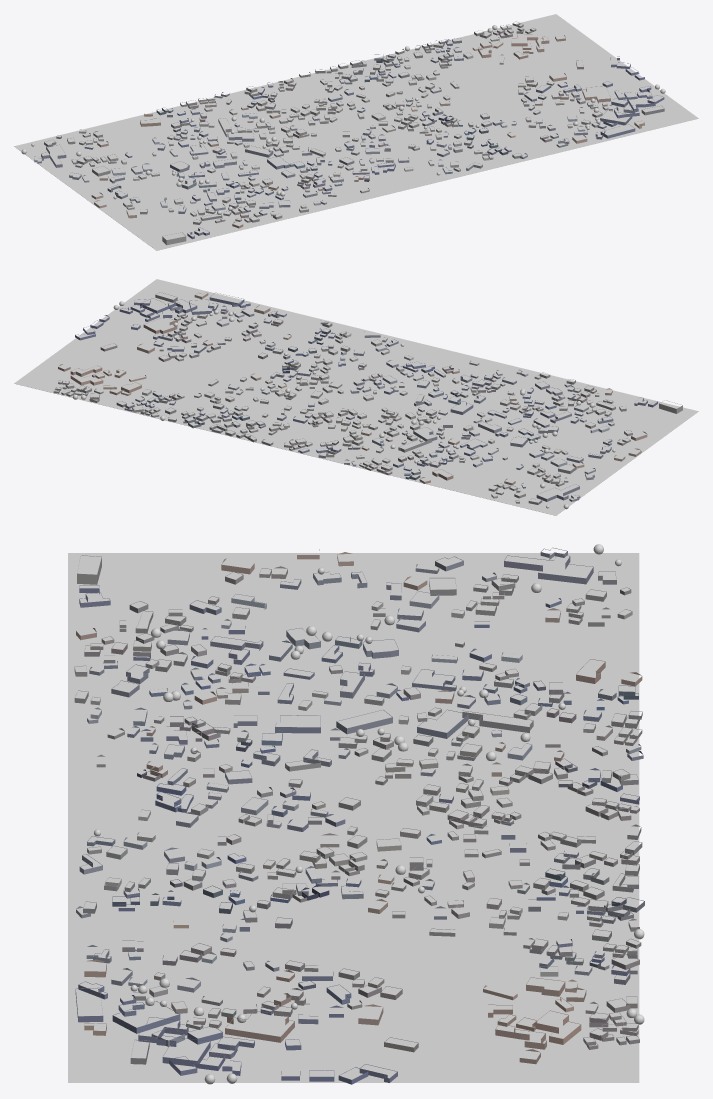
Rendered from scene_8a2acaad-3fab-44d5-9220-e0d28fef39cc.glb.
The picture shows the model from 3 angles, top to bottom: view 1: azimuth 30°, elevation 25°; view 2: azimuth 150°, elevation 25°; view 3: azimuth 270°, elevation 25°; orthographic projection. The views are drawn at different scales.
Visible parts, largest first — view 1: Ground_Base; view 2: Ground_Base; view 3: Ground_Base.
Boxes of the visible parts, <box> form: Ground_Base: <box>14,14,698,250</box>; Ground_Base: <box>14,279,698,515</box>; Ground_Base: <box>68,553,639,1082</box>.
Size of the model in its own units: 1499 by 16.98 by 684.
